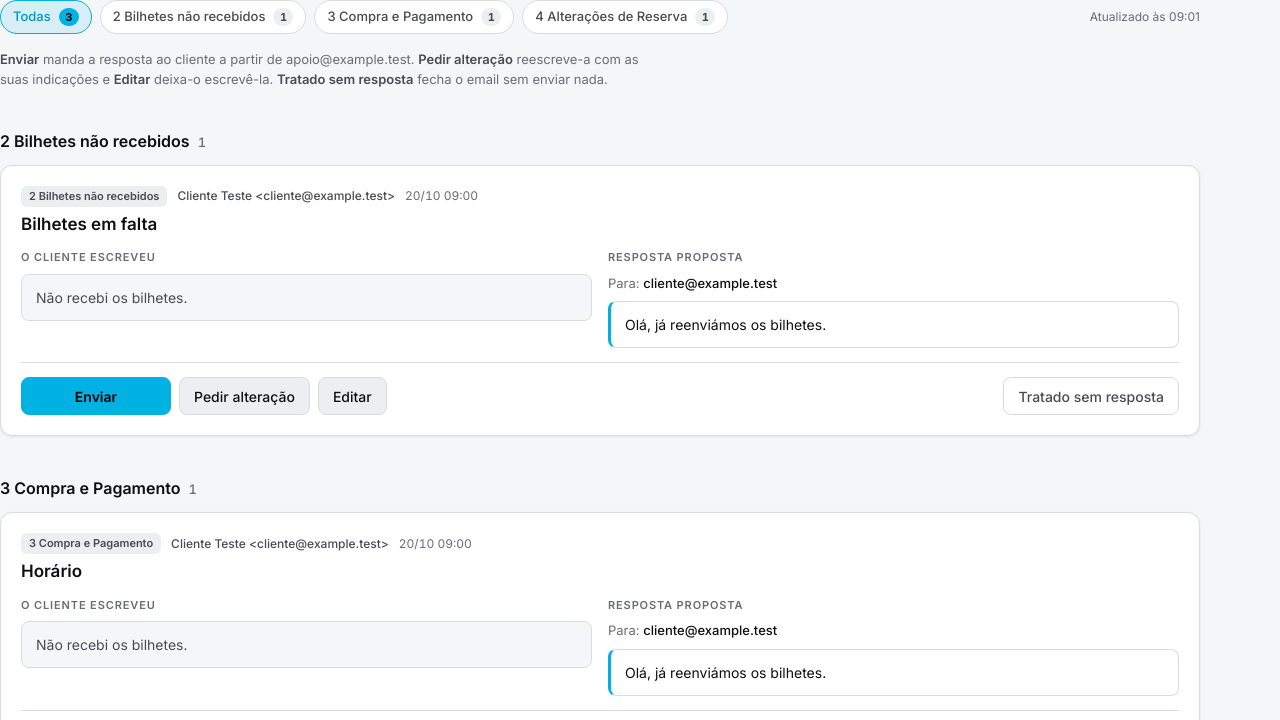
Drafts › falls back to all drafts when the chosen category disappears
The image size is (1280, 720).
Click the button "3 Compra e Pagamento 1". click: (414, 17)
box: [314, 0, 514, 34]
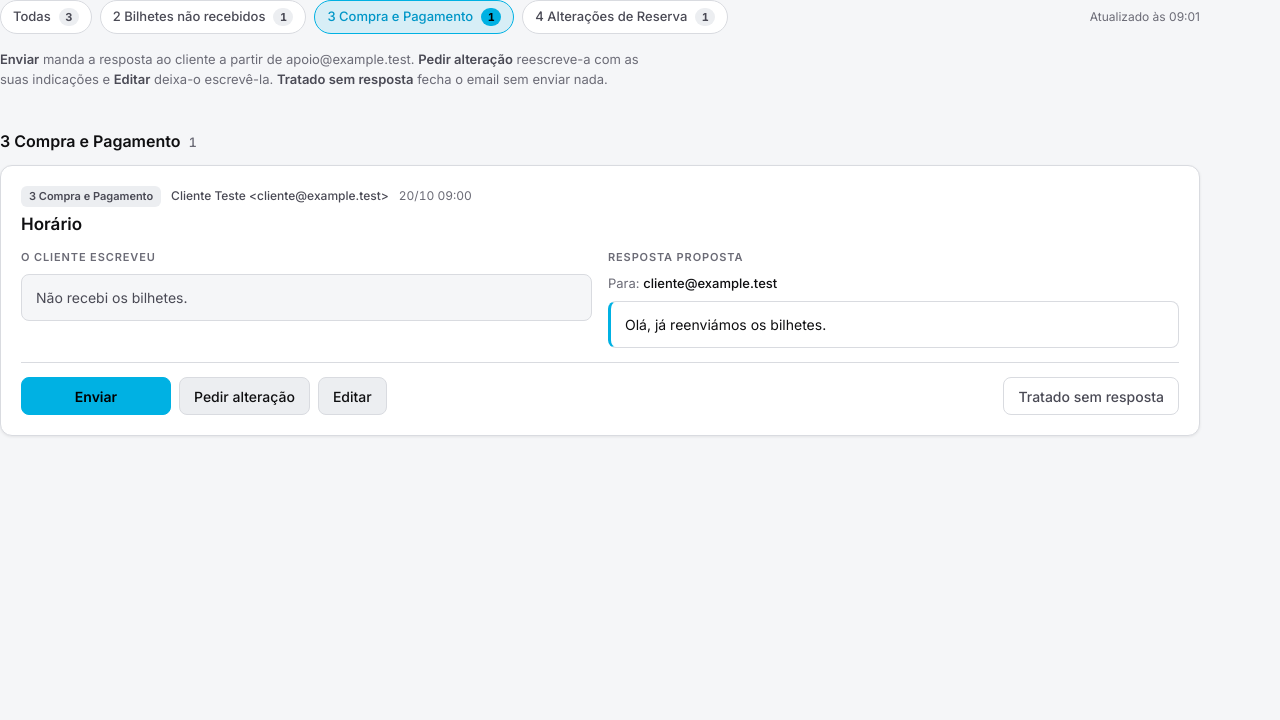
Expected: the heading "Bilhetes em falta" is gone
Click the button "Tratado sem resposta". click: (1091, 396)
box: [1003, 377, 1179, 415]
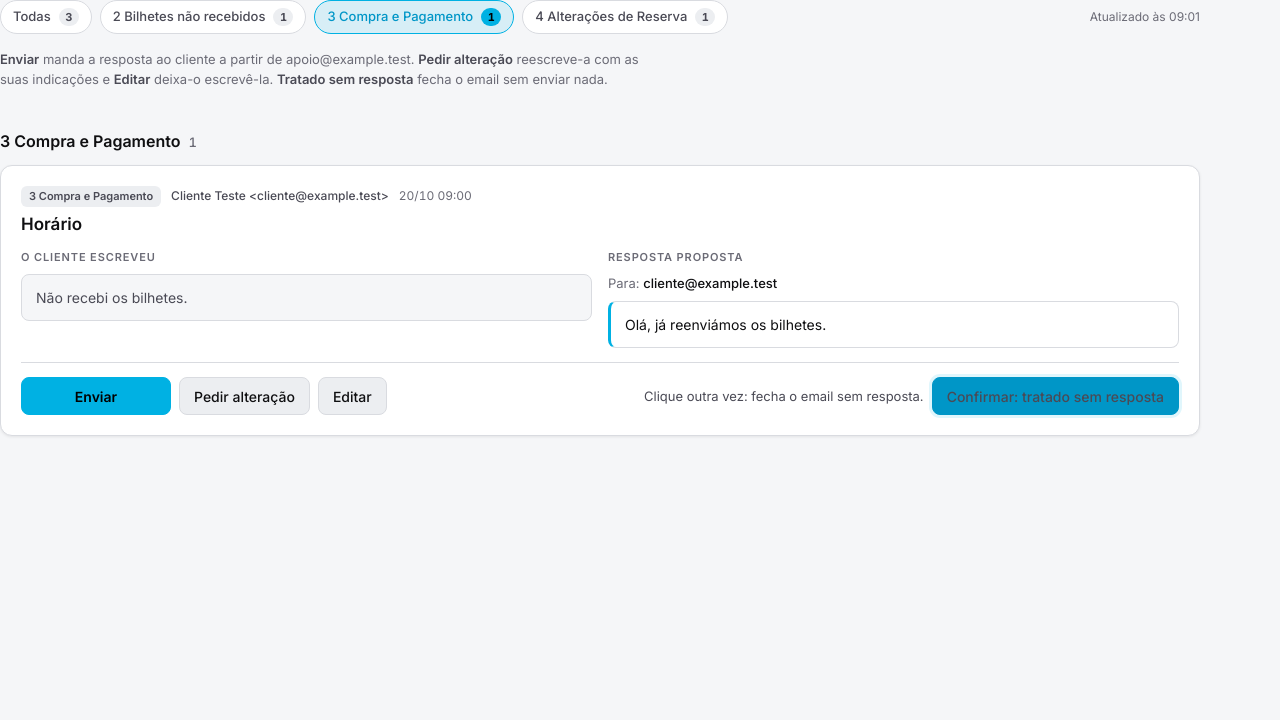
Click the button "Confirmar: tratado sem resposta". click: (1055, 396)
box: [932, 377, 1179, 415]
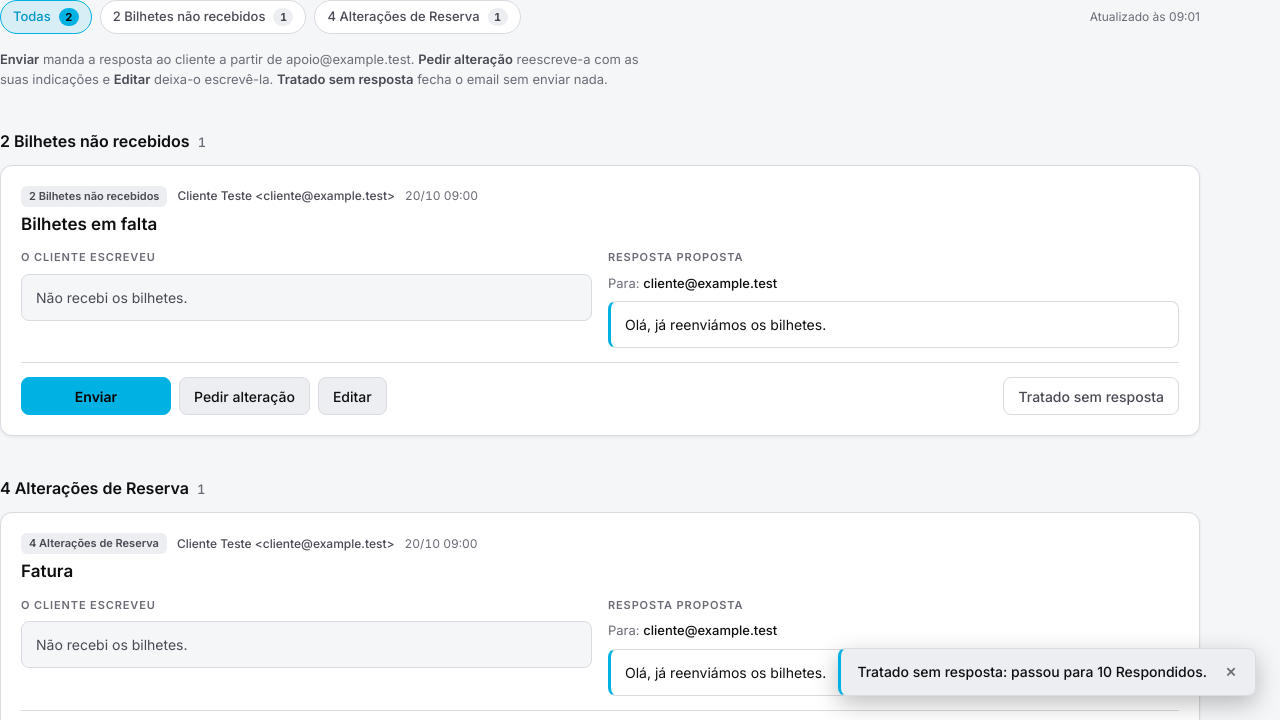
Expected: the heading "Bilhetes em falta" is shown, [21, 214, 157, 234]
Expected: the heading "Fatura" is shown, [21, 561, 73, 581]
